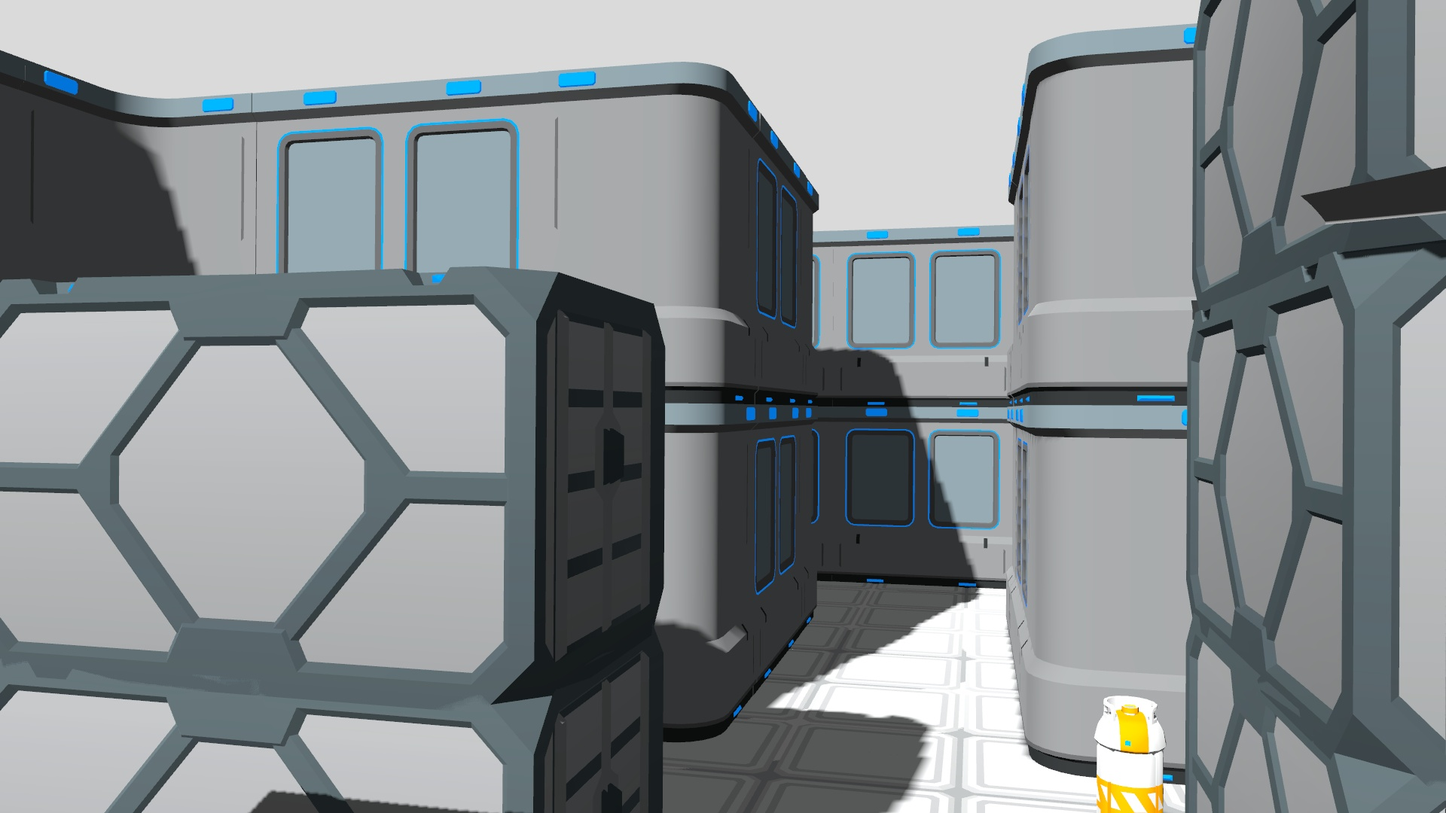yellow_barrel: (1092, 691, 1173, 813)
